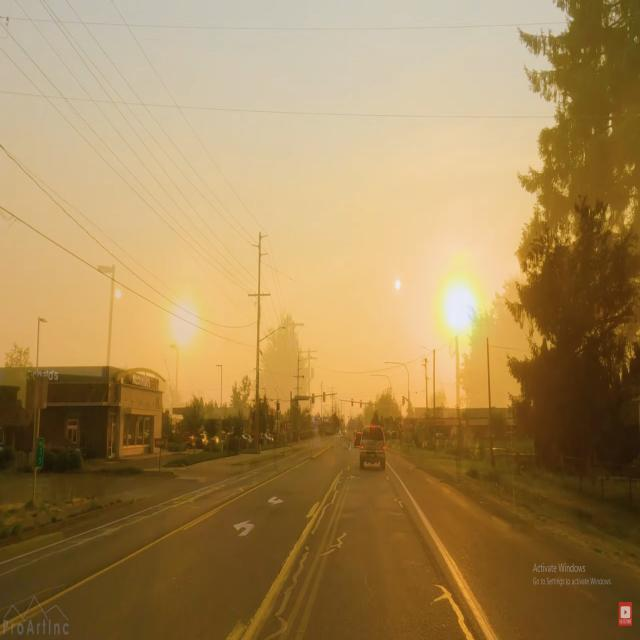sun: (157, 278, 208, 362), (438, 274, 480, 340)
